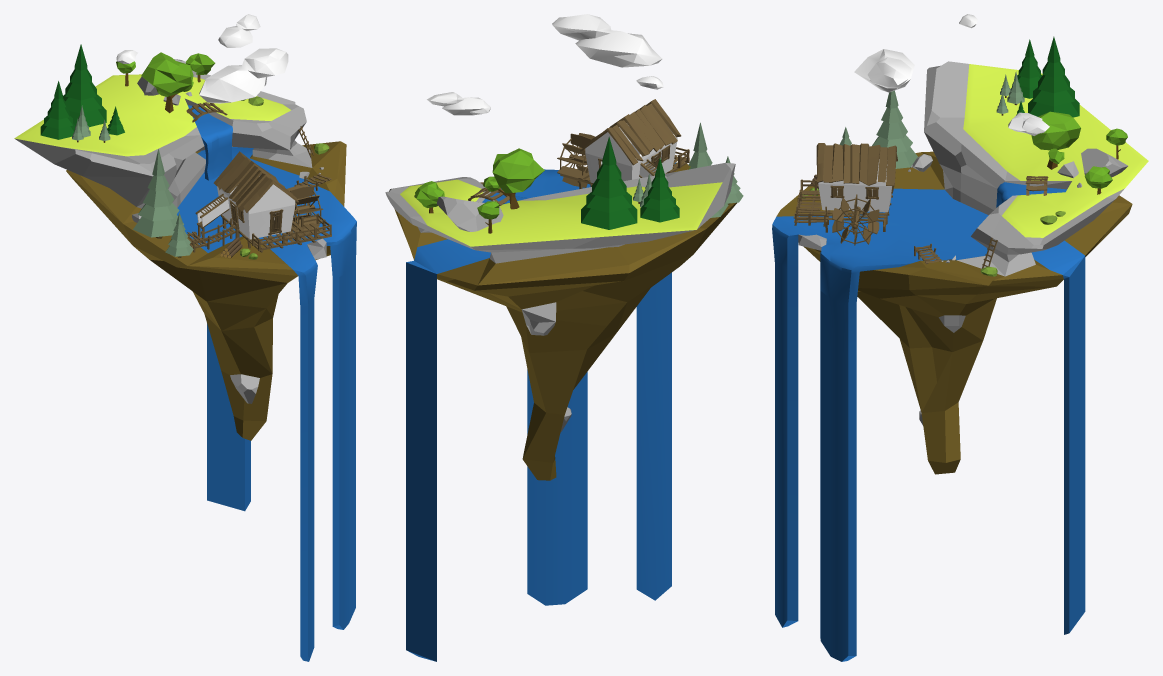
File: island_old.obj
The picture shows the model from 3 angles, left to right: view 1: azimuth 30°, elevation 25°; view 2: azimuth 150°, elevation 25°; view 3: azimuth 270°, elevation 25°; orthographic projection. The views are drawn at different scales.
Parts seen in each view (by area): view 1: 013_Water/_waterfalls, 011_Island, 012_Rocks_and_stones, 016_Grass, 017_Parts_of_watermill, 015_Clouds, 000_Conifers, 010_Conifer, 009_Wall_of_watermill, 007_Trees, 001_Wooden_parts; view 2: 013_Water/_waterfalls, 011_Island, 016_Grass, 012_Rocks_and_stones, 017_Parts_of_watermill, 015_Clouds, 000_Conifers, 007_Trees, 009_Wall_of_watermill, 010_Conifer; view 3: 013_Water/_waterfalls, 011_Island, 012_Rocks_and_stones, 016_Grass, 017_Parts_of_watermill, 000_Conifers, 015_Clouds, 010_Conifer, 007_Trees, 009_Wall_of_watermill, 001_Wooden_parts.
Boxes of the visible parts, left/top/right/bottom form: 013_Water/_waterfalls: left=177, top=105, right=356, bottom=661; 011_Island: left=66, top=141, right=346, bottom=440; 012_Rocks_and_stones: left=15, top=59, right=326, bottom=403; 016_Grass: left=14, top=74, right=290, bottom=156; 017_Parts_of_watermill: left=187, top=151, right=331, bottom=252; 015_Clouds: left=116, top=14, right=288, bottom=103; 000_Conifers: left=40, top=44, right=124, bottom=139; 010_Conifer: left=72, top=105, right=193, bottom=256; 009_Wall_of_watermill: left=197, top=176, right=295, bottom=239; 007_Trees: left=116, top=52, right=215, bottom=96; 001_Wooden_parts: left=186, top=102, right=331, bottom=190; 013_Water/_waterfalls: left=406, top=162, right=676, bottom=661; 011_Island: left=394, top=162, right=736, bottom=480; 016_Grass: left=400, top=179, right=722, bottom=246; 012_Rocks_and_stones: left=385, top=163, right=735, bottom=431; 017_Parts_of_watermill: left=557, top=99, right=689, bottom=188; 015_Clouds: left=427, top=14, right=663, bottom=115; 000_Conifers: left=581, top=136, right=679, bottom=229; 007_Trees: left=415, top=148, right=544, bottom=219; 009_Wall_of_watermill: left=585, top=125, right=677, bottom=183; 010_Conifer: left=633, top=122, right=743, bottom=217; 013_Water/_waterfalls: left=772, top=182, right=1085, bottom=661; 011_Island: left=776, top=151, right=1132, bottom=474; 012_Rocks_and_stones: left=798, top=61, right=1127, bottom=425; 016_Grass: left=963, top=64, right=1148, bottom=237; 017_Parts_of_watermill: left=793, top=143, right=897, bottom=245; 000_Conifers: left=1012, top=36, right=1079, bottom=117; 015_Clouds: left=854, top=14, right=1049, bottom=135; 010_Conifer: left=839, top=71, right=1024, bottom=168; 007_Trees: left=1031, top=111, right=1127, bottom=188; 009_Wall_of_watermill: left=818, top=159, right=891, bottom=212; 001_Wooden_parts: left=914, top=176, right=1048, bottom=268.
Bounding box in the file's own units: 513 × 907 × 543.
